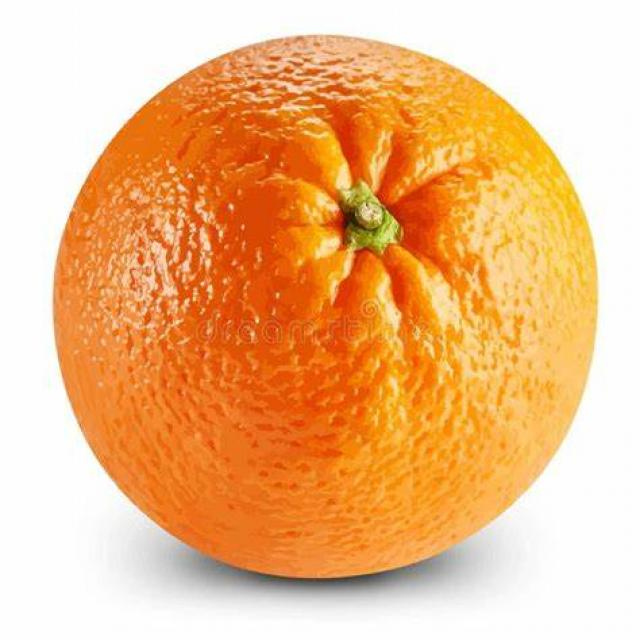Orange: (53, 38, 598, 580)
